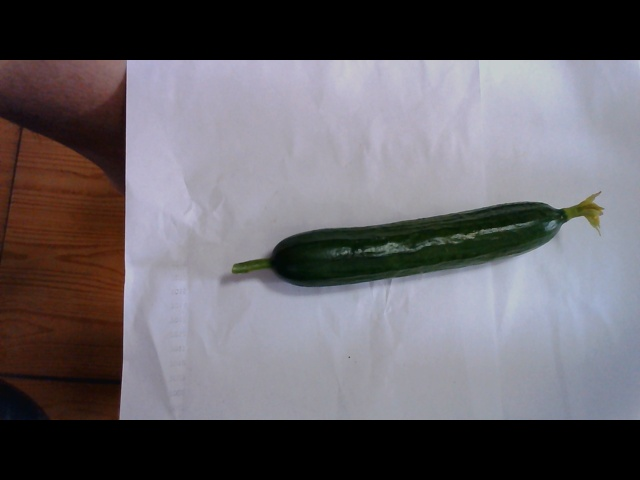cucumber: (259, 197, 600, 294)
